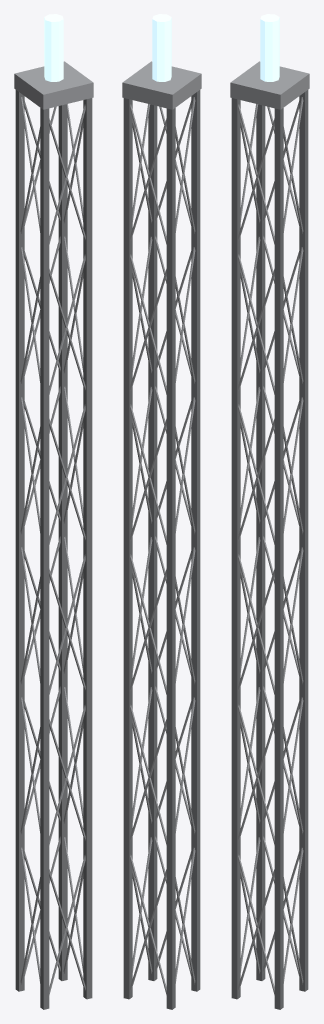
Rendered from scenery_lane_beacon_v01.glb.
3 renders of one model, left to right at view 1: azimuth 30°, elevation 25°; view 2: azimuth 150°, elevation 25°; view 3: azimuth 330°, elevation 25°, orthographic.
Parts seen in each view (by area): view 1: SCN_LANE_BEACON_V01_pillars, SCN_LANE_BEACON_V01_struts, SCN_LANE_BEACON_V01_cap, SCN_LANE_BEACON_V01_beacon_light; view 2: SCN_LANE_BEACON_V01_pillars, SCN_LANE_BEACON_V01_struts, SCN_LANE_BEACON_V01_cap, SCN_LANE_BEACON_V01_beacon_light; view 3: SCN_LANE_BEACON_V01_pillars, SCN_LANE_BEACON_V01_struts, SCN_LANE_BEACON_V01_cap, SCN_LANE_BEACON_V01_beacon_light.
Part boxes in pixels (left/top/right/bottom): SCN_LANE_BEACON_V01_pillars: left=15, top=90, right=92, bottom=1009; SCN_LANE_BEACON_V01_struts: left=20, top=97, right=85, bottom=994; SCN_LANE_BEACON_V01_cap: left=14, top=61, right=93, bottom=109; SCN_LANE_BEACON_V01_beacon_light: left=44, top=14, right=63, bottom=81; SCN_LANE_BEACON_V01_pillars: left=123, top=90, right=200, bottom=1009; SCN_LANE_BEACON_V01_struts: left=130, top=97, right=195, bottom=994; SCN_LANE_BEACON_V01_cap: left=122, top=61, right=201, bottom=109; SCN_LANE_BEACON_V01_beacon_light: left=152, top=14, right=171, bottom=81; SCN_LANE_BEACON_V01_pillars: left=231, top=90, right=308, bottom=1009; SCN_LANE_BEACON_V01_struts: left=238, top=97, right=303, bottom=994; SCN_LANE_BEACON_V01_cap: left=230, top=61, right=309, bottom=109; SCN_LANE_BEACON_V01_beacon_light: left=260, top=14, right=279, bottom=81.
Bounding box in the file's own units: 0.7 × 13 × 0.7.
